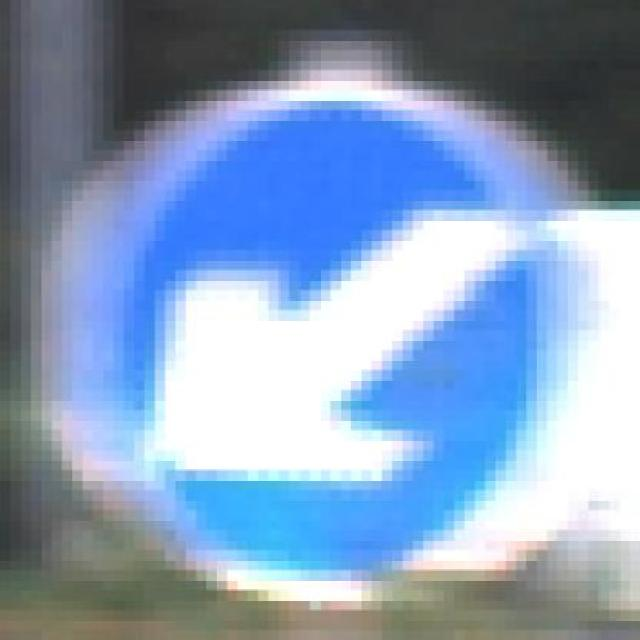Keep-Left: (41, 50, 599, 610)
